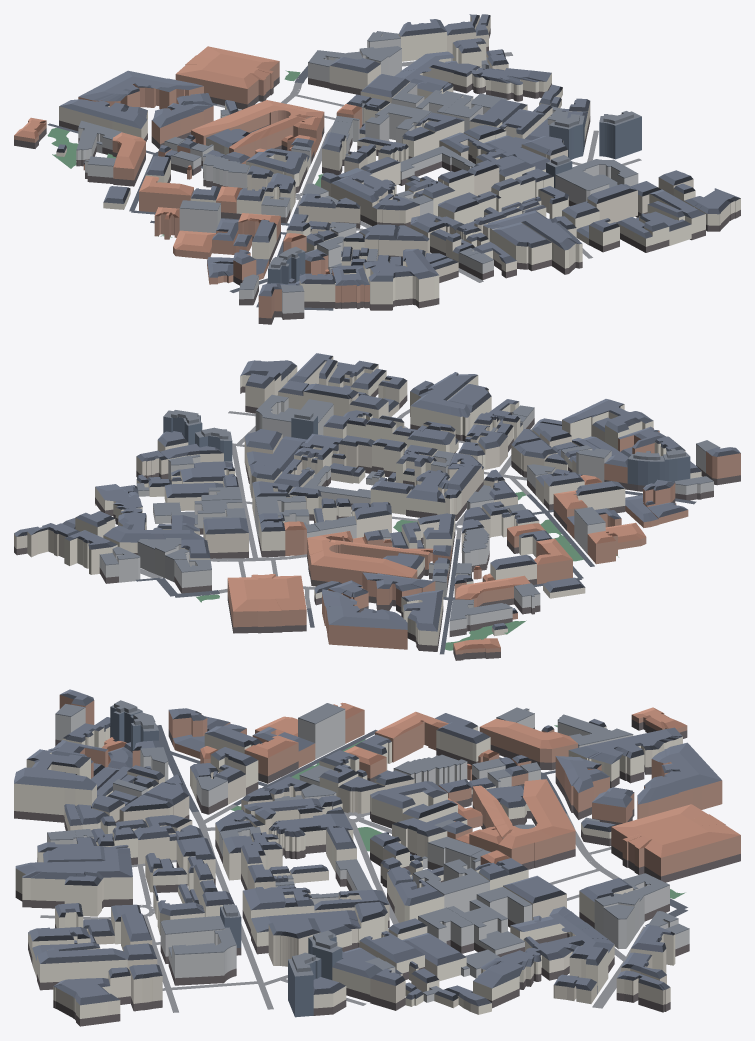
File: tile_2_2_lod0.glb
The picture shows the model from 3 angles, top to bottom: view 1: azimuth 30°, elevation 25°; view 2: azimuth 150°, elevation 25°; view 3: azimuth 270°, elevation 25°; orthographic projection. The views are drawn at different scales.
Parts seen in each view (by area): view 1: TileRoot; view 2: TileRoot; view 3: TileRoot.
Boxes of the visible parts, x1,y1,x2,y2 form: TileRoot: [14, 14, 740, 324]; TileRoot: [14, 353, 740, 660]; TileRoot: [14, 689, 740, 1026].
Size of the model in its own units: 437 by 42.16 by 465.
